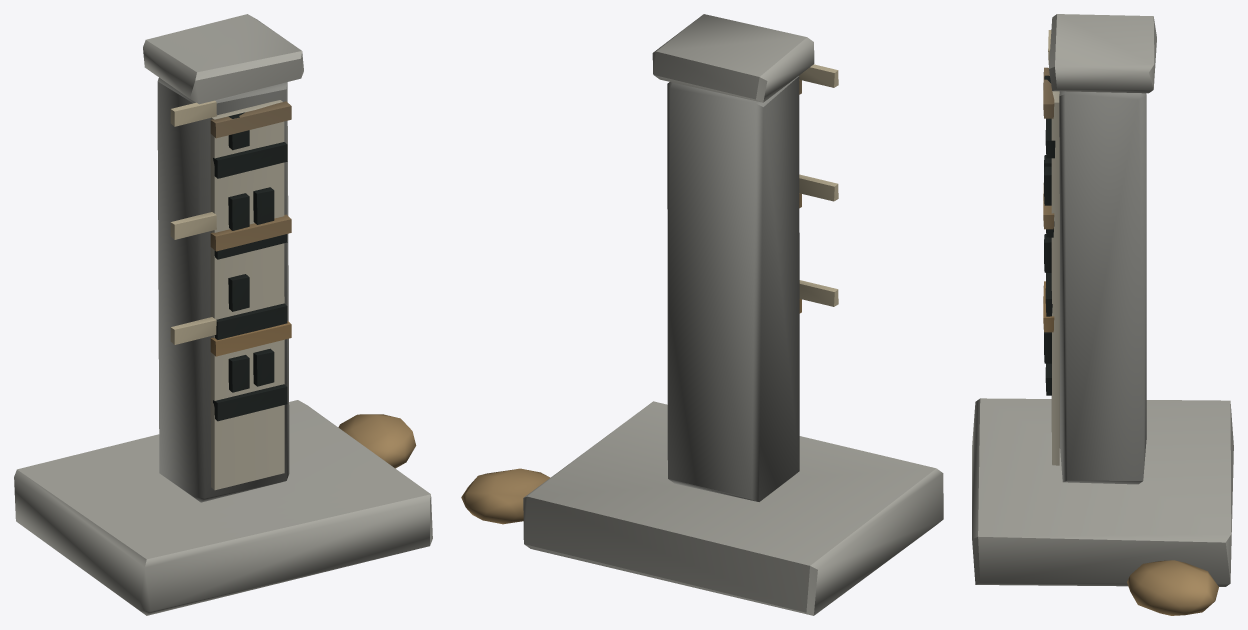
Rendered from flood_staff_a_lod1.glb.
The picture shows the model from 3 angles, left to right: view 1: azimuth 30°, elevation 25°; view 2: azimuth 150°, elevation 25°; view 3: azimuth 270°, elevation 25°; orthographic projection. The views are drawn at different scales.
Parts seen in each view (by area): view 1: Surface.001; view 2: Surface.001; view 3: Surface.001.
Part boxes in pixels (x1,y1,x2,y2): Surface.001: (14, 14, 432, 615); Surface.001: (461, 14, 943, 615); Surface.001: (972, 14, 1233, 615).
Size of the model in its own units: 2.06 by 2.6 by 1.28.
